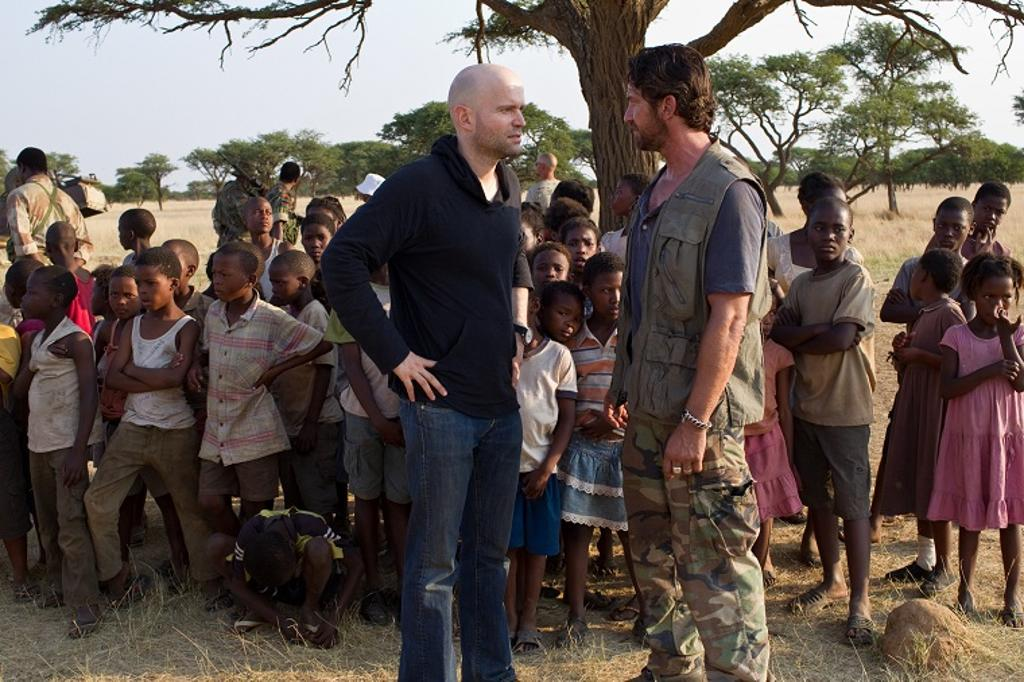face: (472, 74, 525, 155), (624, 77, 664, 149), (809, 207, 848, 261), (545, 290, 581, 341), (976, 277, 1013, 324), (590, 271, 625, 320), (132, 266, 168, 312), (533, 251, 569, 297), (211, 257, 244, 303), (936, 207, 969, 252), (564, 227, 596, 272), (813, 187, 846, 230), (20, 273, 50, 319), (108, 277, 140, 319), (973, 194, 1006, 233), (268, 267, 298, 305), (302, 225, 331, 261), (509, 222, 534, 263), (307, 208, 333, 244), (4, 273, 27, 308), (247, 203, 272, 232), (88, 279, 108, 314), (612, 177, 630, 214), (909, 265, 927, 300), (118, 222, 131, 250), (534, 158, 543, 174)
